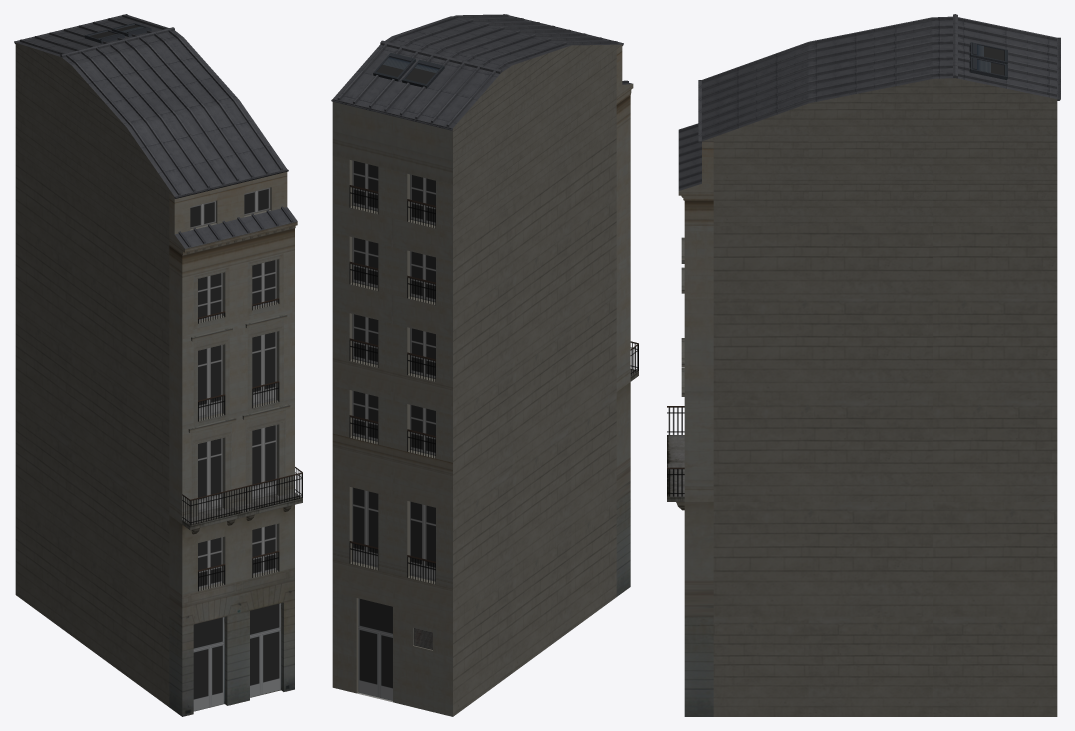
The model's file is fr_ccc0e788.glb.
The picture shows the model from 3 angles, left to right: view 1: azimuth 30°, elevation 25°; view 2: azimuth 150°, elevation 25°; view 3: azimuth 270°, elevation 25°; orthographic projection. The views are drawn at different scales.
Parts seen in each view (by area): view 1: Cube.004; view 2: Cube.004; view 3: Cube.004.
Boxes of the visible parts, bbox=[...] form: Cube.004: bbox=[14, 14, 302, 716]; Cube.004: bbox=[331, 14, 638, 716]; Cube.004: bbox=[667, 14, 1060, 716].
Size of the model in its own units: 500 by 2430 by 1352.
Materials: 1 (1 with a texture image).
